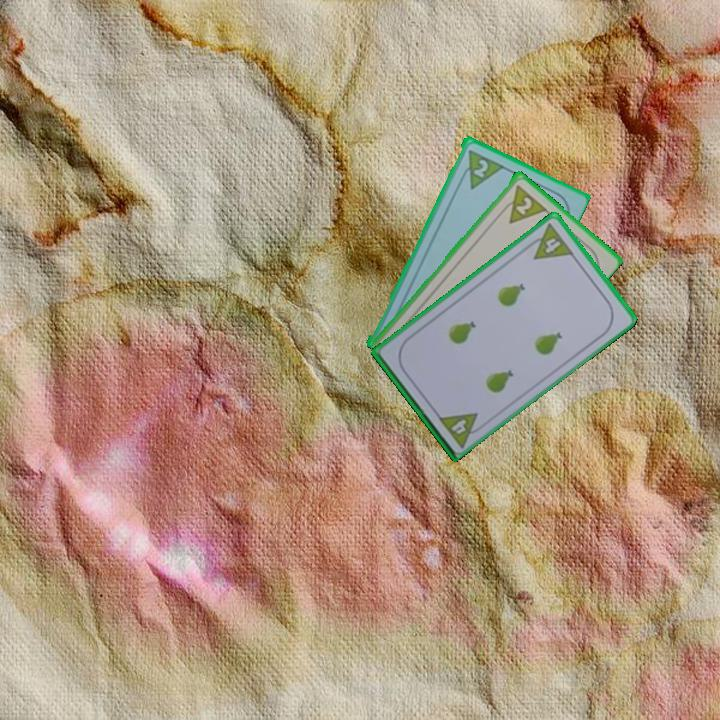2p: (495, 181, 548, 226), (470, 155, 491, 180)
4p: (522, 220, 576, 262), (434, 409, 488, 450)
